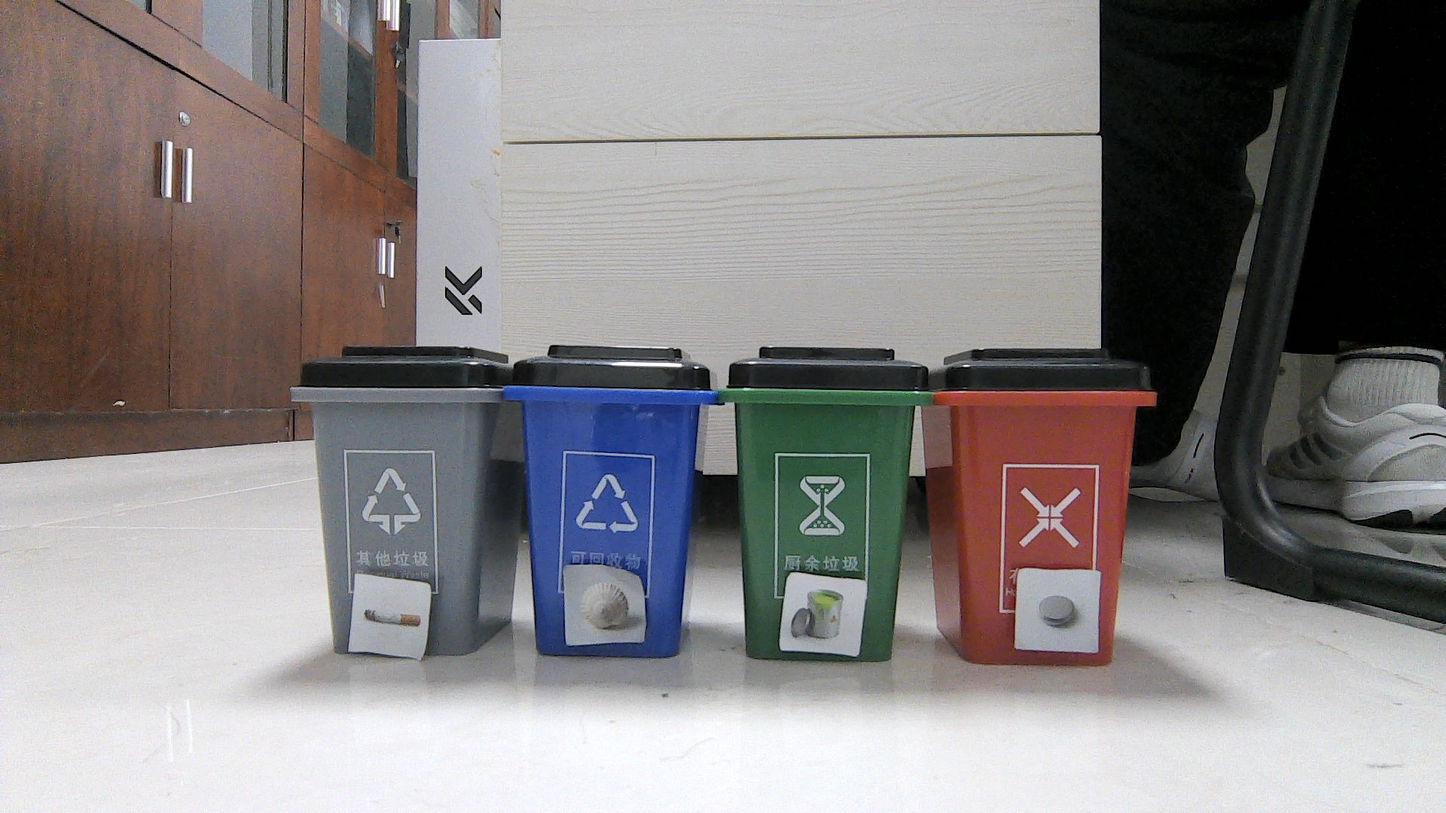hazardous_trash: (782, 576, 853, 653), (1023, 569, 1092, 646)
other_trash: (570, 568, 638, 639), (356, 584, 424, 649)
